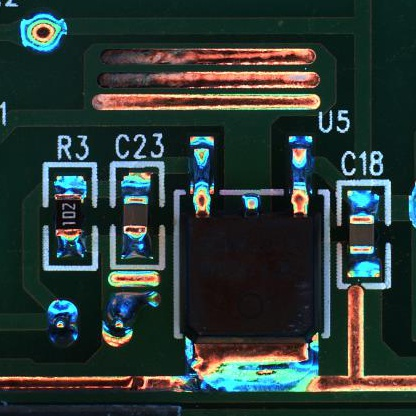spot: (98, 290, 162, 350), (17, 12, 68, 52), (45, 296, 81, 351)
